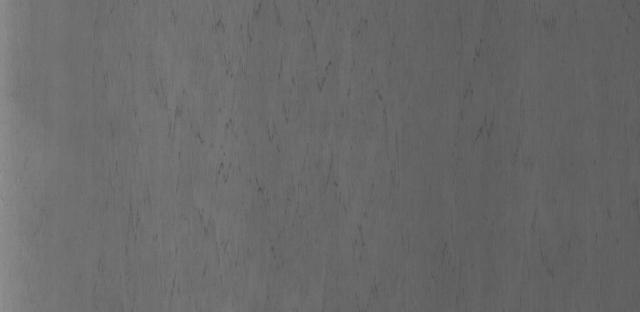silk_spot: (136, 0, 603, 270)
